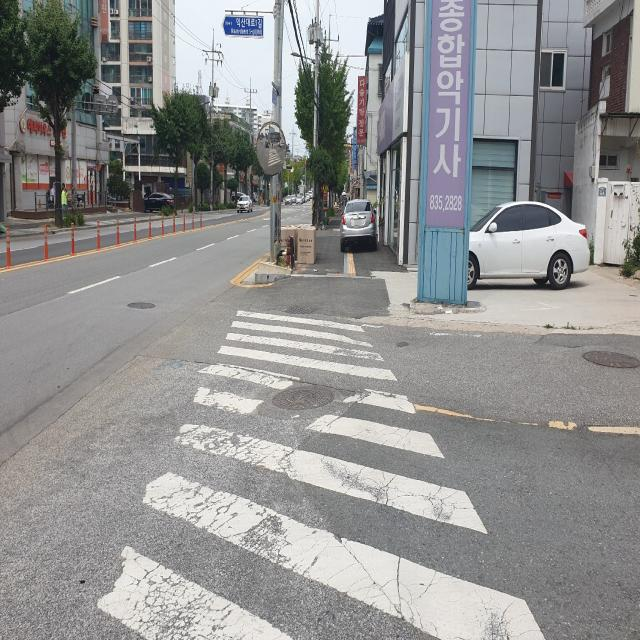횡단보도: (96, 310, 545, 640)
